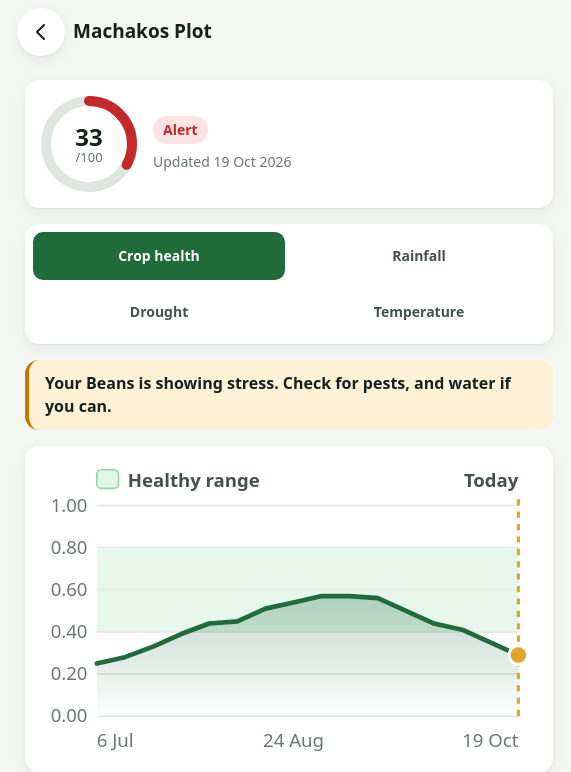
Test: switching tabs shows rainfall, drought and temperature views
The width and height of the screenshot is (571, 772).
What coordinates should you click on to do the following:
click the tab "Rainfall"
I would click on:
 (419, 256)
Its box is [293,232,545,280].
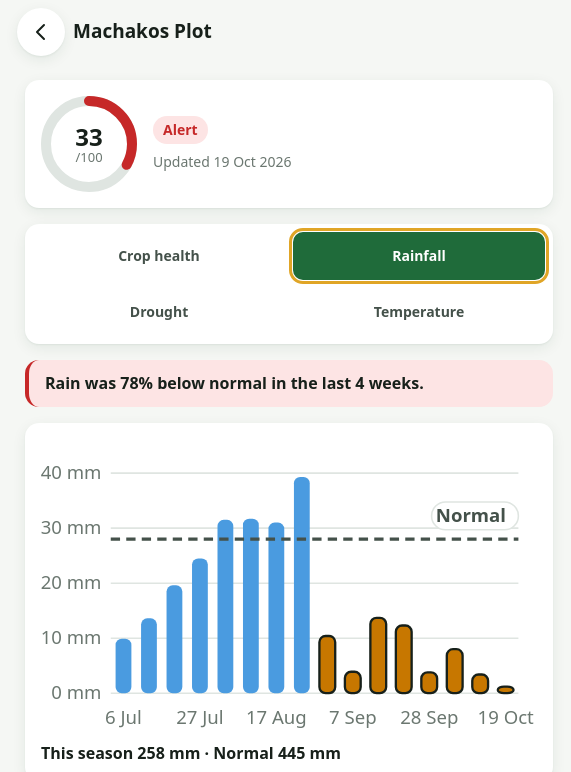
Now the picture named "Weekly rainfall in mm" is shown, box [41,439,537,734]
Now the text "Rain was 78% below normal in the last 4 weeks." is shown, box [25,360,553,407]
What coordinates should you click on to do the following:
click the tab "Drought"
I would click on:
 (159, 312)
Its box is [33,288,285,336].
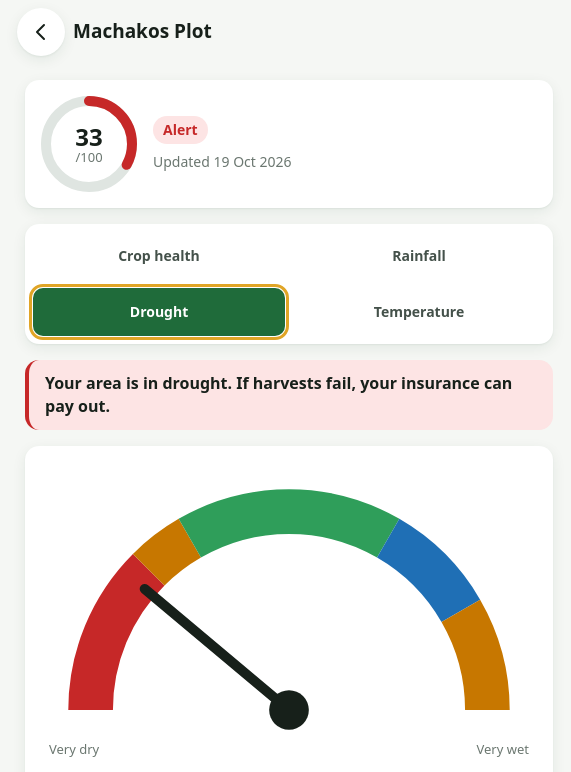
Expected: the element with test id "gauge-needle" is shown, [145,589,289,710]
Now the text "Your area is in drought. If harvests fail, your insurance can pay out." is shown, box [25,360,553,430]
What coordinates should you click on to do the following:
click the tab "Temperature"
I would click on:
 (419, 312)
Its box is [293,288,545,336].
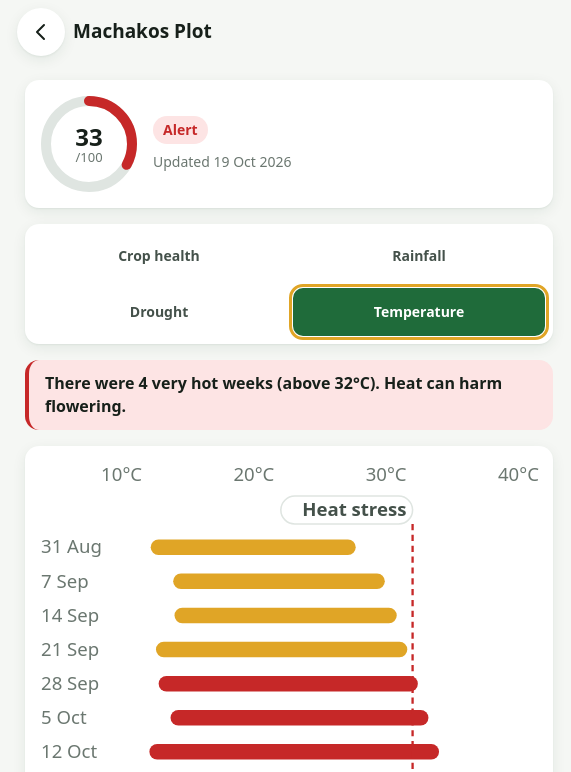
Now the text "There were 4 very hot weeks (above 32°C). Heat can harm flowering." is shown, box [25,360,553,430]
